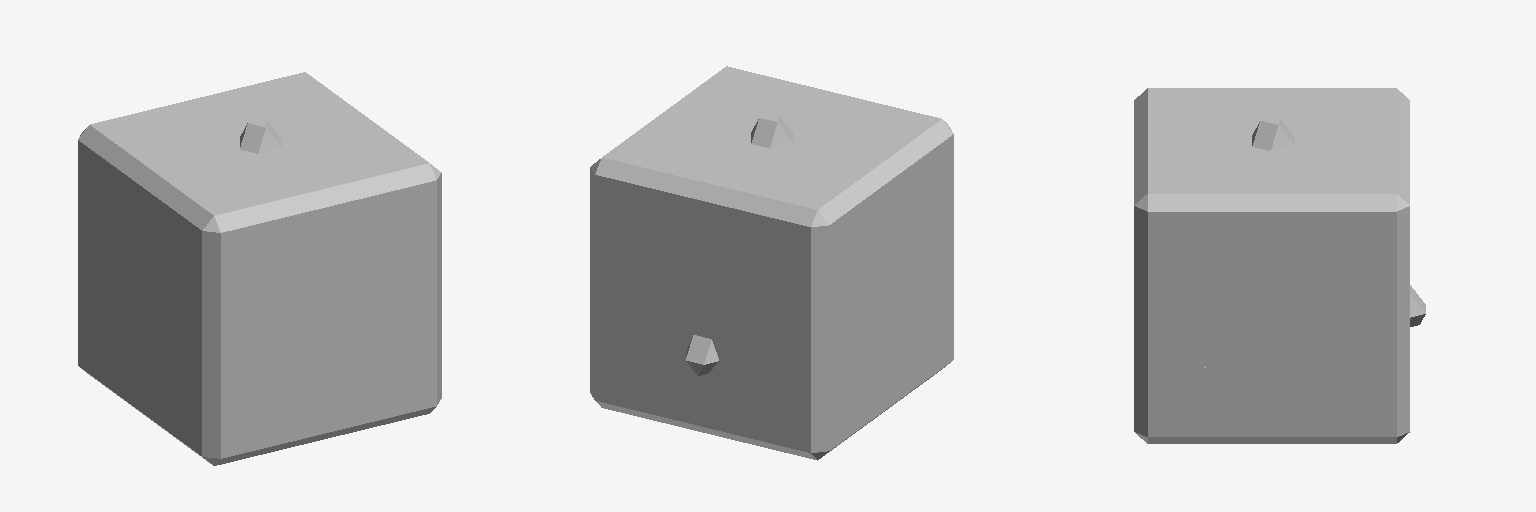
The picture shows the model from 3 angles: view 1: azimuth 30°, elevation 25°; view 2: azimuth 150°, elevation 25°; view 3: azimuth 270°, elevation 25°; orthographic projection.
Parts seen in each view (by area): view 1: d6_ref_Box02, d4_Cone; view 2: d6_ref_Box02, d4_Cone; view 3: d6_ref_Box02, d4_Cone.
Part boxes in pixels (bbox=[...]): d6_ref_Box02: bbox=[78, 72, 441, 465]; d4_Cone: bbox=[240, 119, 281, 153]; d6_ref_Box02: bbox=[590, 66, 953, 460]; d4_Cone: bbox=[686, 113, 793, 375]; d6_ref_Box02: bbox=[1134, 88, 1409, 443]; d4_Cone: bbox=[1204, 116, 1425, 367].
Size of the model in its own units: 78.87 by 85.16 by 83.19.